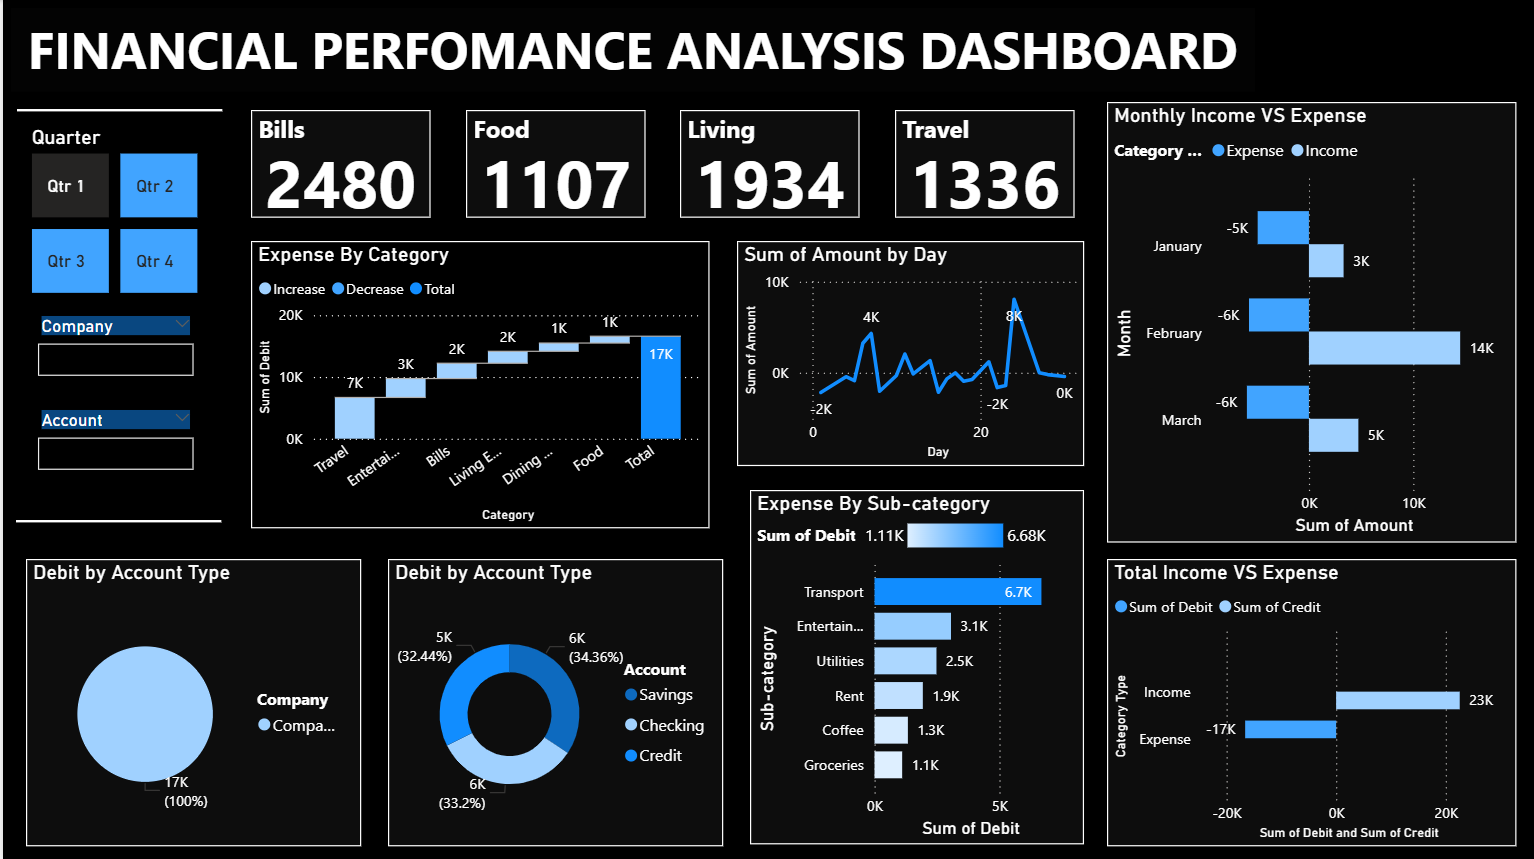

The page's visual inventory and layout, read from the dashboard file:
{"tool":"powerbi","page":{"name":"Dashboard ","canvas":[1280,720],"ordinal":0},"visuals":[{"type":"textbox","box":[6.9,6.9,1038.8,70],"z":0},{"type":"card","title":"Bills","fields":{"Values":["Sum(Generated_Finance_Expenses (2).Debit)"]},"box":[207.2,91.9,150,90],"z":1000},{"type":"card","title":"Travel","fields":{"Values":["Sum(Generated_Finance_Expenses (2).Debit)"]},"box":[745.1,91.9,150,90],"z":2000},{"type":"card","title":"Food","fields":{"Values":["Sum(Generated_Finance_Expenses (2).Debit)"]},"box":[386.5,91.9,150,90],"z":3000},{"type":"card","title":"Living","fields":{"Values":["Sum(Generated_Finance_Expenses (2).Debit)"]},"box":[565.8,91.9,150,90],"z":4000},{"type":"donutChart","title":"Debit by Account Type","fields":{"Category":["Generated_Finance_Expenses (2).Account"],"Y":["Sum(Generated_Finance_Expenses (2).Debit)"]},"box":[321.8,466.6,280,240.1],"z":5000},{"type":"clusteredBarChart","title":"Total Income VS Expense","fields":{"Category":["Generated_Finance_Expenses (2).Category Type"],"Y":["Generated_Finance_Expenses (2).Sum of Debit","Sum(Generated_Finance_Expenses (2).Credit)"]},"box":[922.1,466.6,341.7,240.1],"z":6000},{"type":"waterfallChart","title":"Expense By Category","fields":{"Category":["Generated_Finance_Expenses (2).Category"],"Y":["Sum(Generated_Finance_Expenses (2).Debit)"]},"box":[207.2,201.7,382.8,240.1],"z":7000},{"type":"clusteredBarChart","title":"Expense By Sub-category","fields":{"Category":["Generated_Finance_Expenses (2).Sub-category"],"Y":["Sum(Generated_Finance_Expenses (2).Debit)"]},"box":[624.4,408.9,278.6,296.4],"z":8000},{"type":"clusteredBarChart","title":"Monthly Income VS Expense","fields":{"Category":["Generated_Finance_Expenses (2).Date.Variation.Date Hierarchy.Month"],"Y":["Sum(Generated_Finance_Expenses (2).Amount)"],"Series":["Generated_Finance_Expenses (2).Category Type"]},"box":[922.1,85.1,341.7,367.8],"z":9000},{"type":"pieChart","title":"Debit by Account Type","fields":{"Y":["Sum(Generated_Finance_Expenses (2).Debit)"],"Category":["Generated_Finance_Expenses (2).Company"]},"box":[19.2,466.6,280,240.1],"z":10000},{"type":"advancedSlicerVisual","fields":{"Values":["Generated_Finance_Expenses (2).Date.Variation.Date Hierarchy.Quarter"]},"box":[19.2,104.3,149.6,145.5],"z":11000},{"type":"slicer","fields":{"Values":["Generated_Finance_Expenses (2).Company"]},"box":[19.2,259.3,149.6,75.5],"z":12000},{"type":"shape","box":[11,428.1,171.5,13.7],"z":13000},{"type":"shape","box":[11.4,85.1,171.5,13.7],"z":14000},{"type":"slicer","fields":{"Values":["Generated_Finance_Expenses (2).Account"]},"box":[19.2,337.6,149.6,75.5],"z":15000},{"type":"lineChart","fields":{"Y":["Sum(Generated_Finance_Expenses (2).Amount)"],"Category":["Generated_Finance_Expenses (2).Date.Variation.Date Hierarchy.Day"]},"box":[613.4,201.7,289.5,188],"z":16000}]}

Visuals, with their boxes in screenshot pixels (x1, y1, x2, y2), scaled from the page's 1280x720 canvas onto the 1534x859 screenshot:
textbox: 8, 8, 1253, 92
"Bills" card: 248, 110, 428, 217
"Travel" card: 893, 110, 1073, 217
"Food" card: 463, 110, 643, 217
"Living" card: 678, 110, 858, 217
"Debit by Account Type" donutChart: 386, 557, 721, 843
"Total Income VS Expense" clusteredBarChart: 1105, 557, 1515, 843
"Expense By Category" waterfallChart: 248, 241, 707, 527
"Expense By Sub-category" clusteredBarChart: 748, 488, 1082, 841
"Monthly Income VS Expense" clusteredBarChart: 1105, 102, 1515, 540
"Debit by Account Type" pieChart: 23, 557, 359, 843
advancedSlicerVisual - Generated_Finance_Expenses (2).Date.Variation.Date Hierarchy.Quarter: 23, 124, 202, 298
slicer - Generated_Finance_Expenses (2).Company: 23, 309, 202, 399
shape: 13, 511, 219, 527
shape: 14, 102, 219, 118
slicer - Generated_Finance_Expenses (2).Account: 23, 403, 202, 493
lineChart - Sum(Generated_Finance_Expenses (2).Amount) x Generated_Finance_Expenses (2).Date.Variation.Date Hierarchy.Day: 735, 241, 1082, 465
